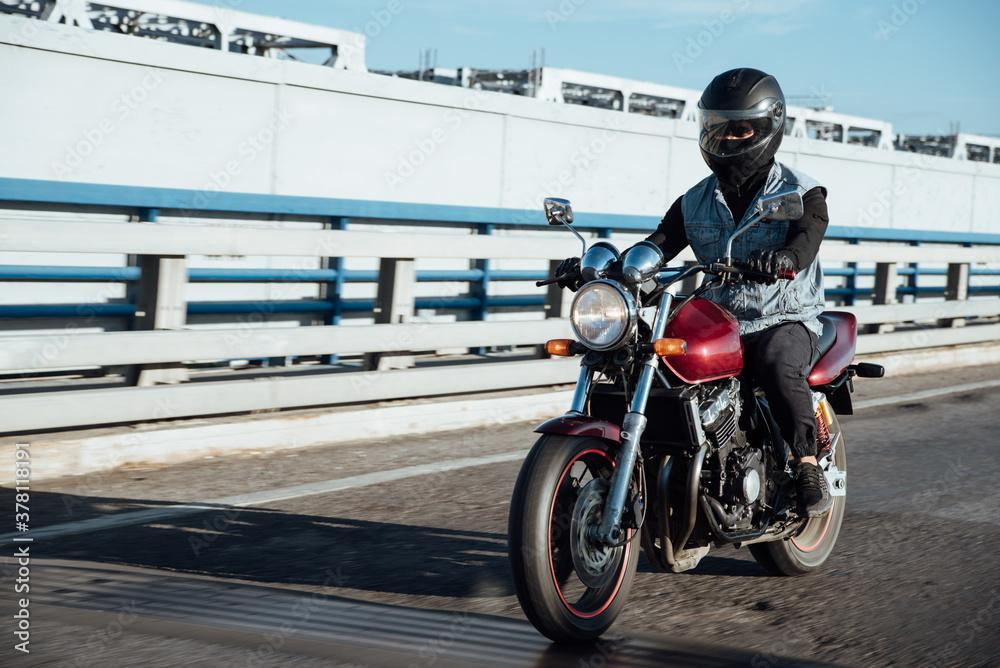helmet: (695, 66, 787, 186)
